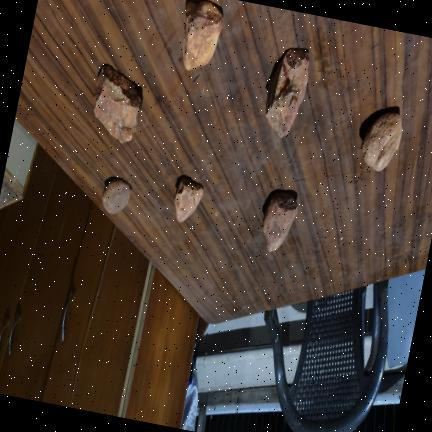Rocks: (266, 48, 309, 136), (94, 64, 141, 142), (183, 0, 222, 69), (362, 112, 402, 170), (263, 191, 298, 250), (174, 177, 203, 221), (102, 179, 131, 213)
